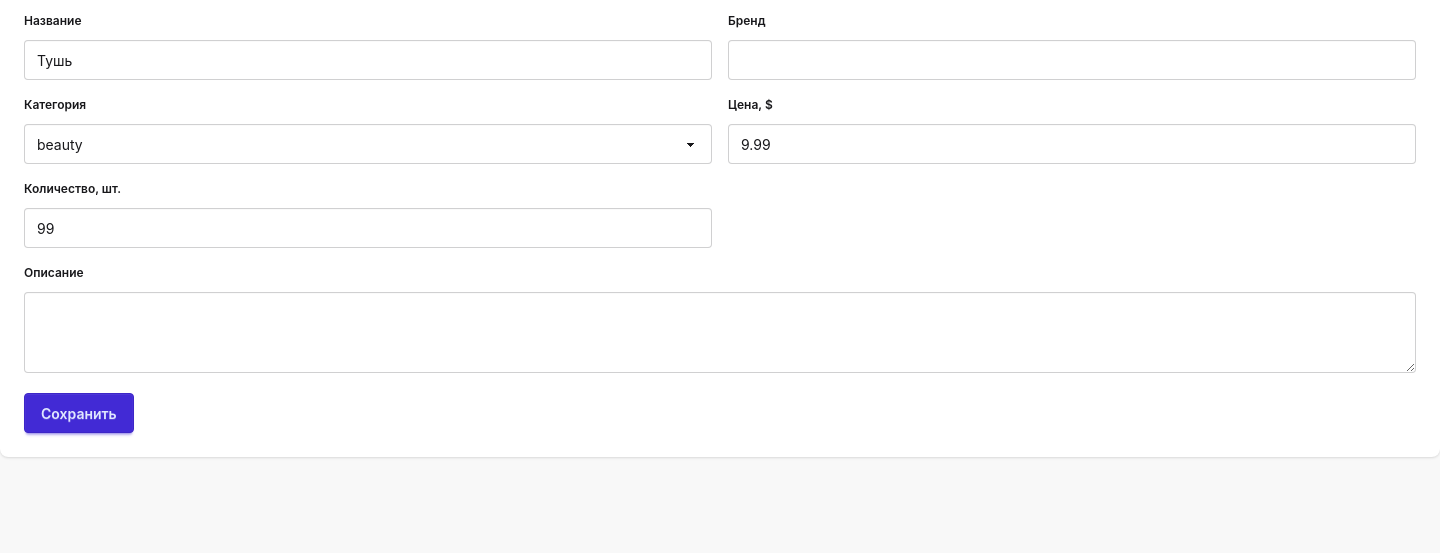
Test: ProductForm › показывает у полей ошибки, которые вернул сервер
Click the button "Сохранить": point(79, 413) [24, 393, 134, 433]
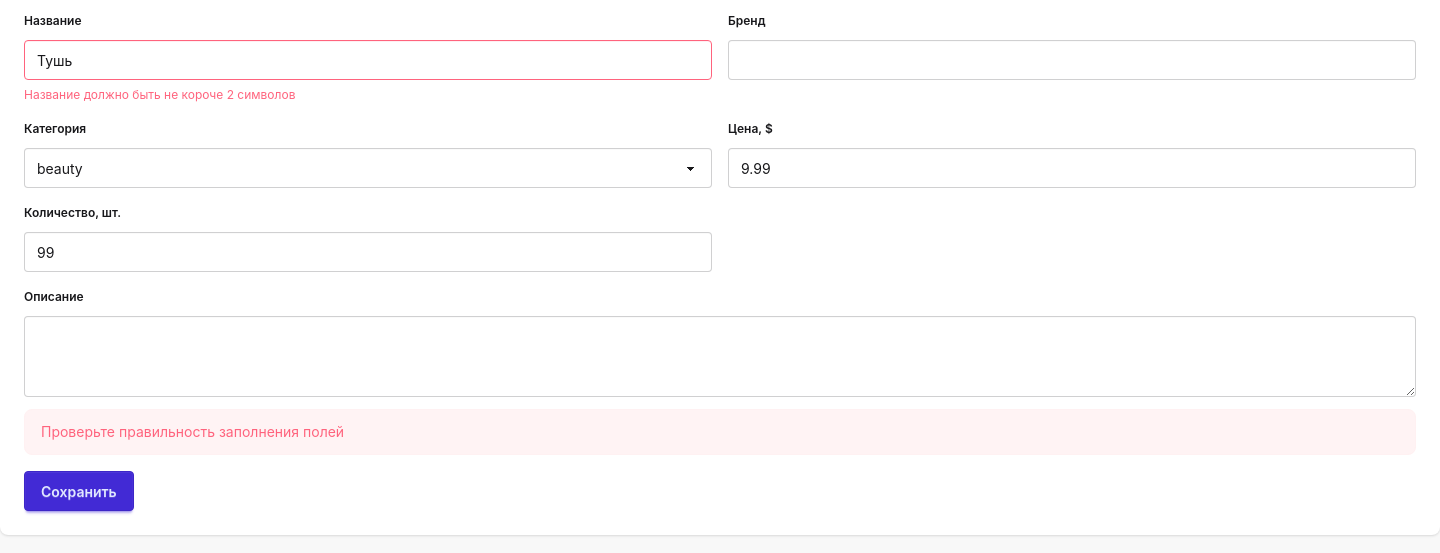
expect the message reads "Проверьте правильность заполнения полей": met, box [41, 423, 344, 440]
expect the text "Название должно быть не короче 2 символов" is shown: met, box [24, 87, 295, 102]
